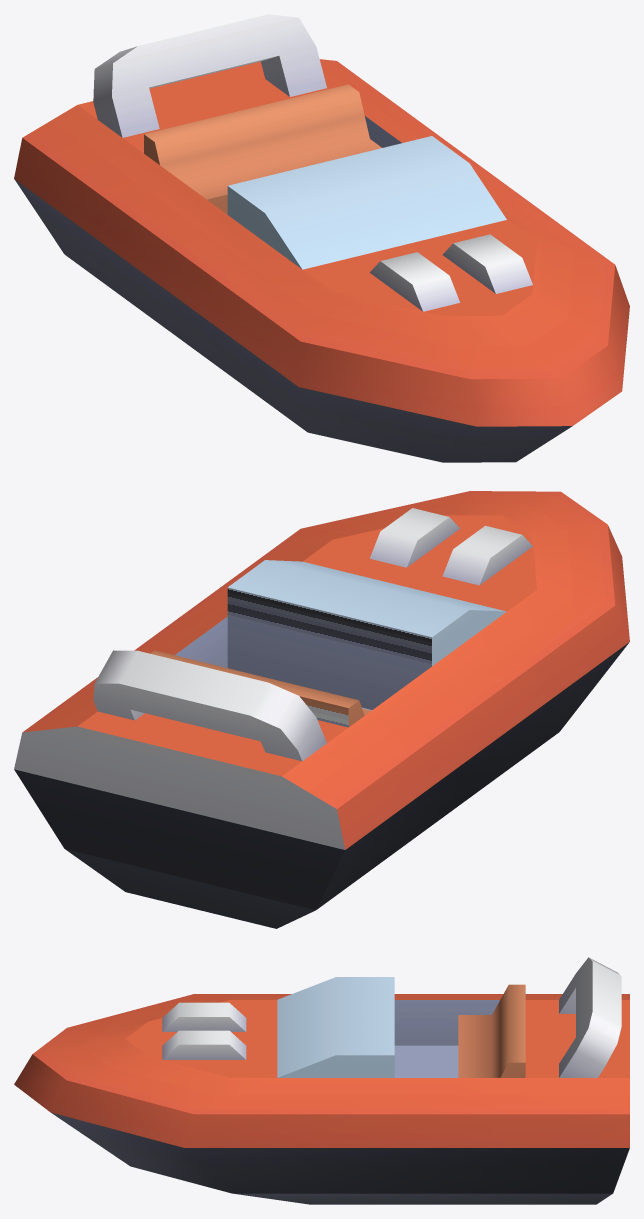
Rendered from boat-speed-h-transformed-transformed.glb.
3 views of the same model, one above another, from view 1: azimuth 30°, elevation 25°; view 2: azimuth 150°, elevation 25°; view 3: azimuth 270°, elevation 25° (orthographic). The views are drawn at different scales.
Parts seen in each view (by area): view 1: boat-speed-h; view 2: boat-speed-h; view 3: boat-speed-h.
Boxes of the visible parts, box(x1,y1,x2,y2) form: boat-speed-h: box(14, 14, 629, 462); boat-speed-h: box(14, 491, 629, 928); boat-speed-h: box(14, 957, 629, 1204).
Size of the model in its own units: 1.78 by 1.25 by 3.67.
Materials: 1 (1 with a texture image).
